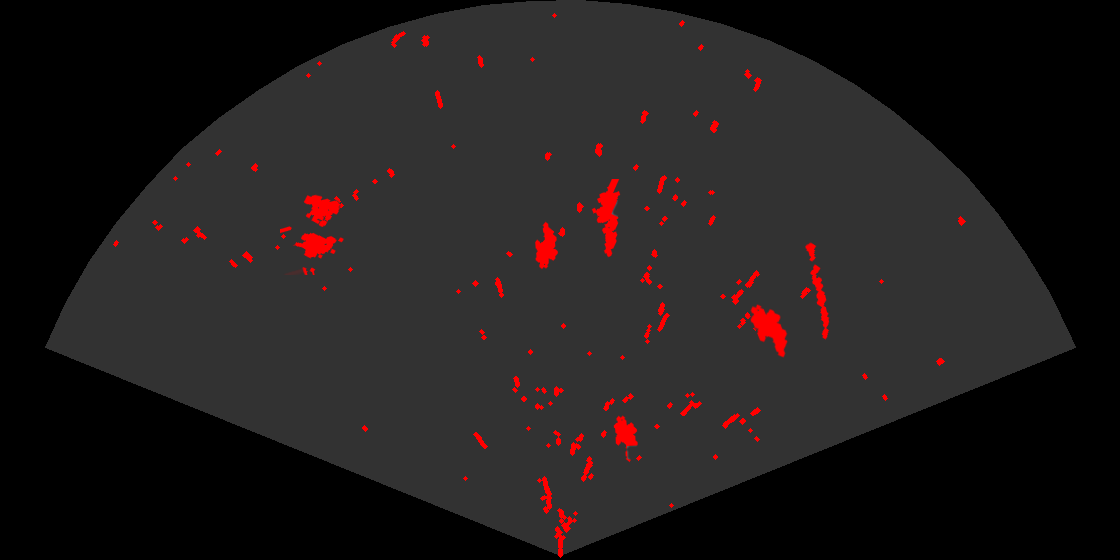AUV: (749, 303, 789, 359), (612, 414, 639, 464), (534, 220, 560, 271)
cage: (280, 193, 345, 275)
chain: (804, 240, 831, 341)
frogman: (590, 179, 622, 259)
